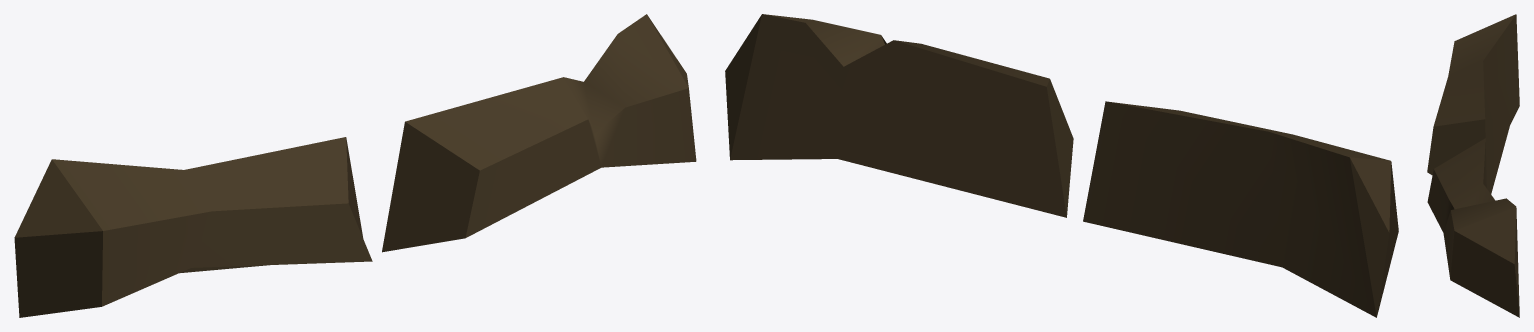
The model's file is Chr_Eyebrow_Male_08_Static.fbx.
The picture shows the model from 3 angles, left to right: view 1: azimuth 30°, elevation 25°; view 2: azimuth 150°, elevation 25°; view 3: azimuth 270°, elevation 25°; orthographic projection. The views are drawn at different scales.
Parts seen in each view (by area): view 1: Chr_Eyebrow_Male_08_Static; view 2: Chr_Eyebrow_Male_08_Static; view 3: Chr_Eyebrow_Male_08_Static.
Boxes of the visible parts, x1,y1,x2,y2 form: Chr_Eyebrow_Male_08_Static: [14, 14, 696, 317]; Chr_Eyebrow_Male_08_Static: [725, 14, 1398, 317]; Chr_Eyebrow_Male_08_Static: [1427, 14, 1519, 317].
Bounding box in the file's own units: 0.176 × 0.0384 × 0.0317.
